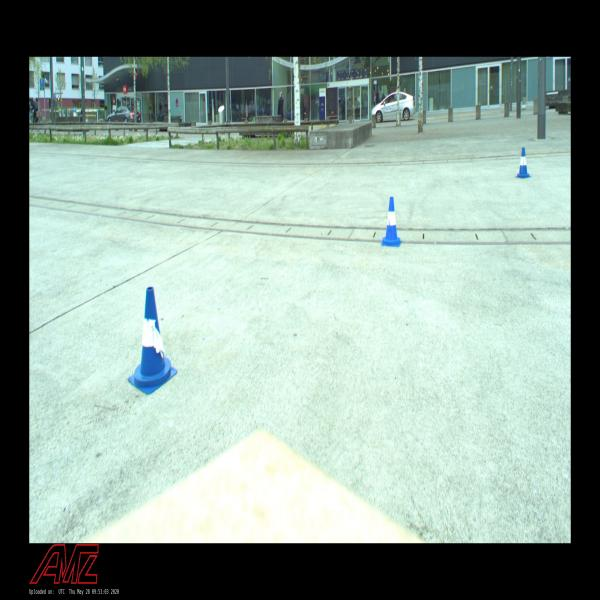blue_cone: (127, 286, 176, 393), (380, 196, 403, 247), (515, 146, 532, 179)
